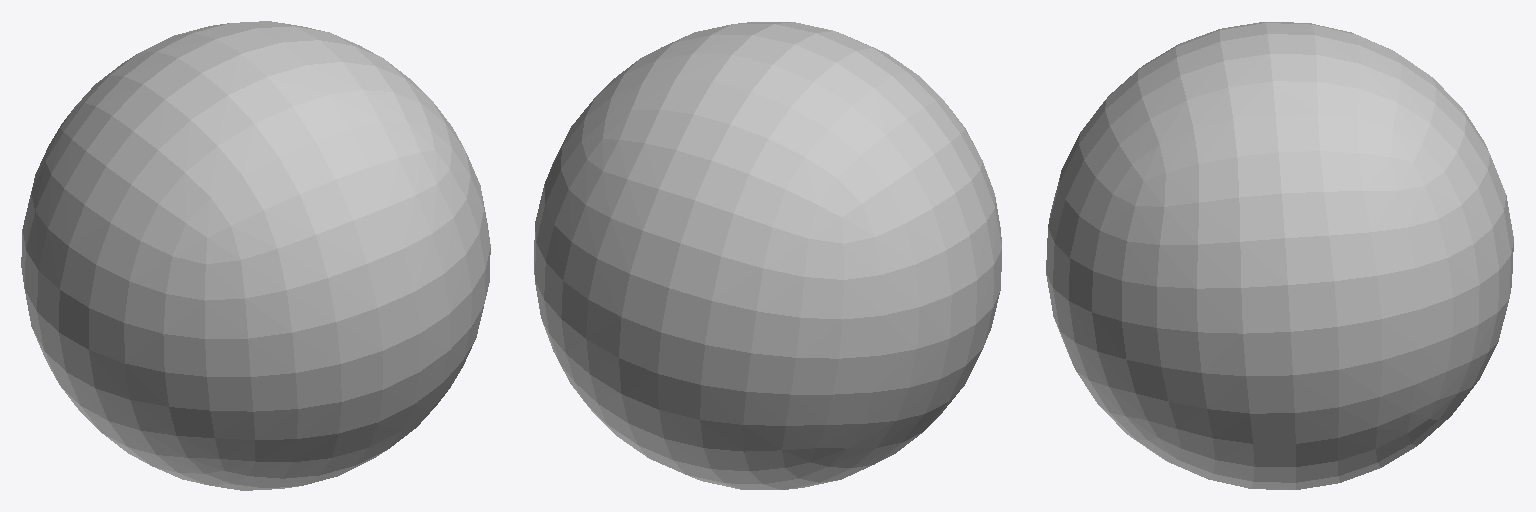
3 renders of one model, left to right at view 1: azimuth 30°, elevation 25°; view 2: azimuth 150°, elevation 25°; view 3: azimuth 270°, elevation 25°, orthographic.
Parts seen in each view (by area): view 1: Atmosphere_Cube.001; view 2: Atmosphere_Cube.001; view 3: Atmosphere_Cube.001.
Boxes of the visible parts, <box> form: Atmosphere_Cube.001: <box>21,21,490,490</box>; Atmosphere_Cube.001: <box>534,22,1001,489</box>; Atmosphere_Cube.001: <box>1046,22,1513,489</box>.
Size of the model in its own units: 1 by 1 by 1.